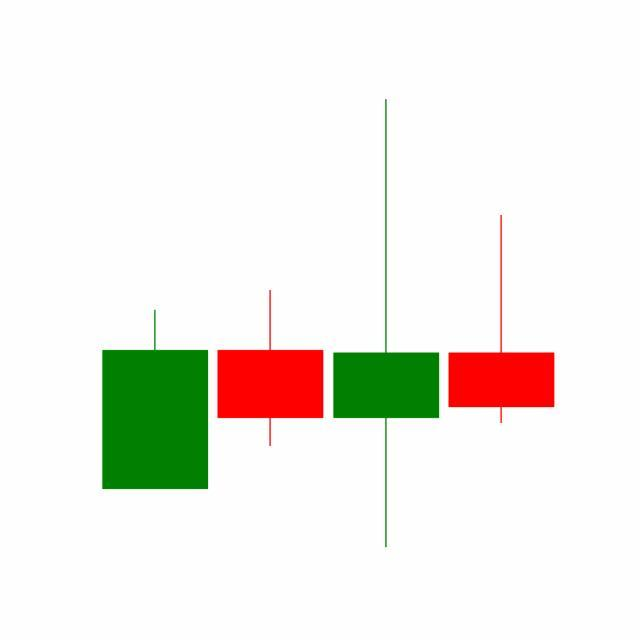Spinning Top: (329, 95, 445, 553)
